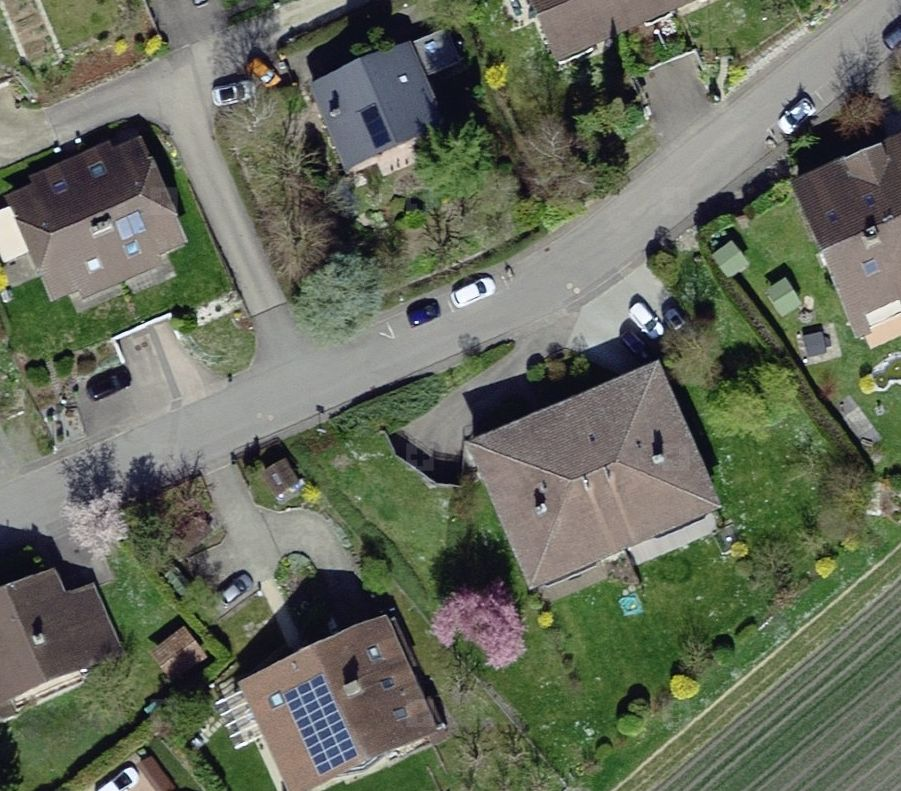solar: (280, 672, 361, 779), (351, 94, 395, 155), (106, 206, 152, 246)
